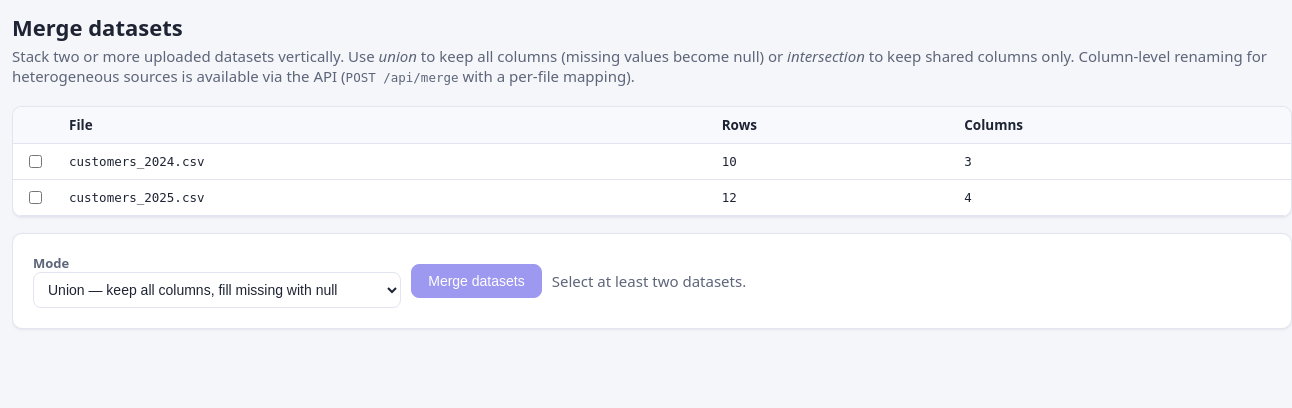
Scenario: MergePage › surfaces merge errors (duplicate input)
This screenshot has width=1292, height=408.
Click the checkbox named "customers_2024": (36, 162) [29, 155, 42, 168]
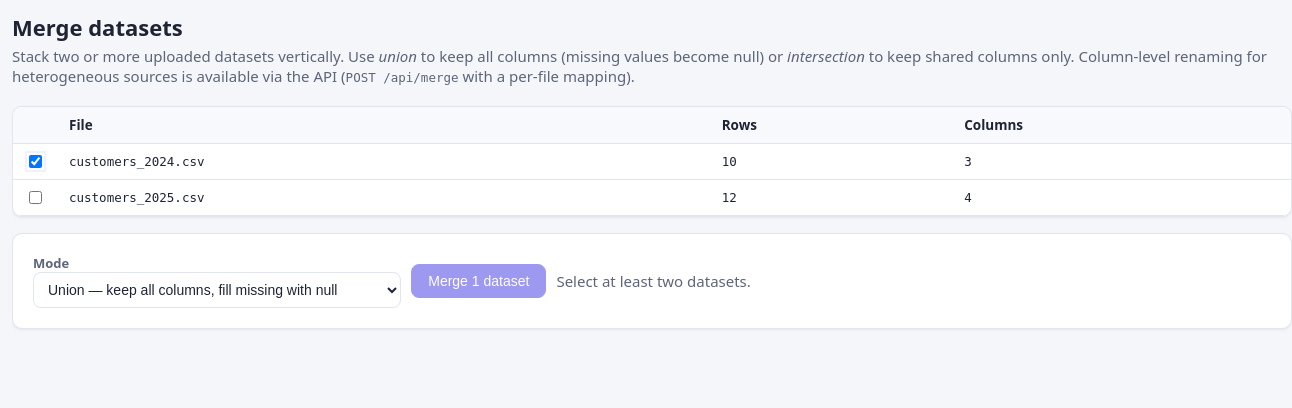
Click the checkbox named "customers_2025": (36, 198) [29, 191, 42, 204]
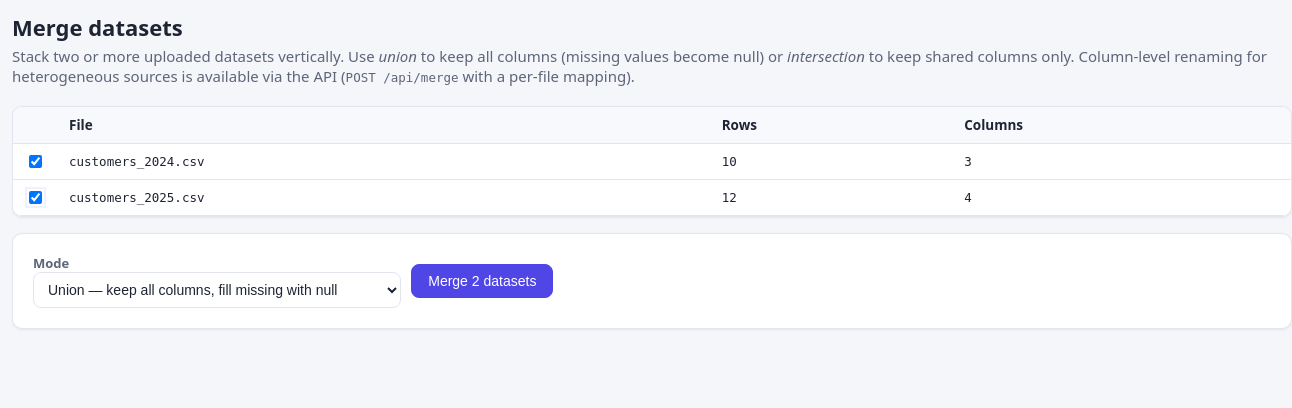
Click the button "Merge 2 datasets": (482, 281) [411, 264, 553, 298]
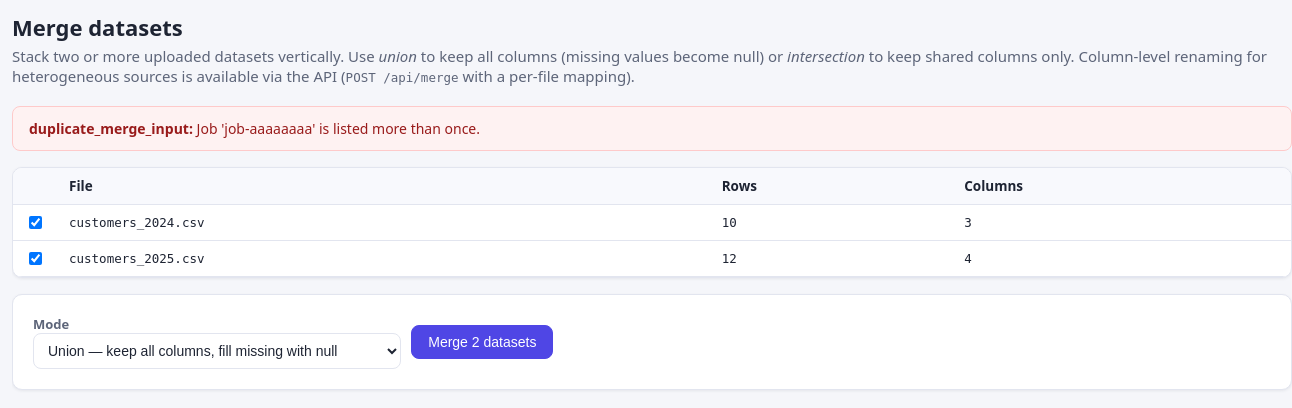
Expected: the message shows "duplicate_merge_input", [29, 119, 197, 138]
